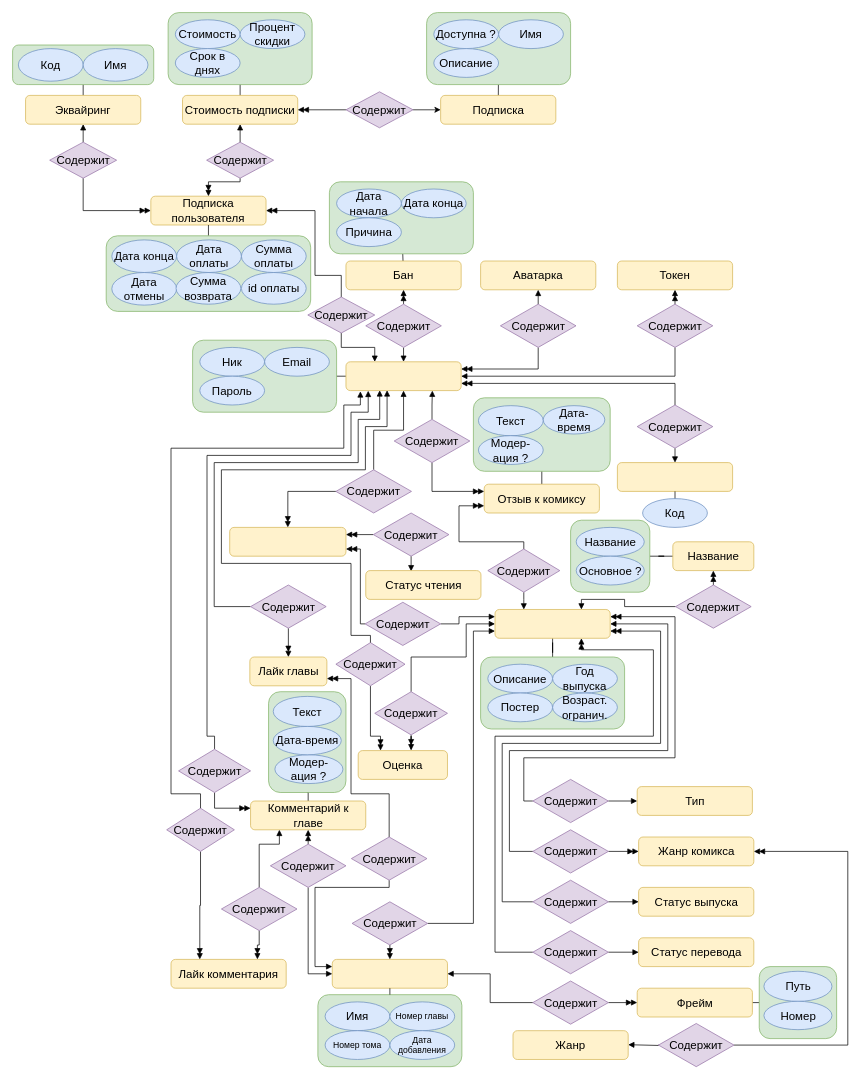
This 866x1079 diagram has some shape labels left out. Here are the shapes that lost their labels. From the top down, the centre of each, then its label:
(x=403, y=376): Пользователь
(x=675, y=476): Роль
(x=287, y=541): Статус чтения комикса
(x=552, y=623): Комикс
(x=389, y=973): Глава
